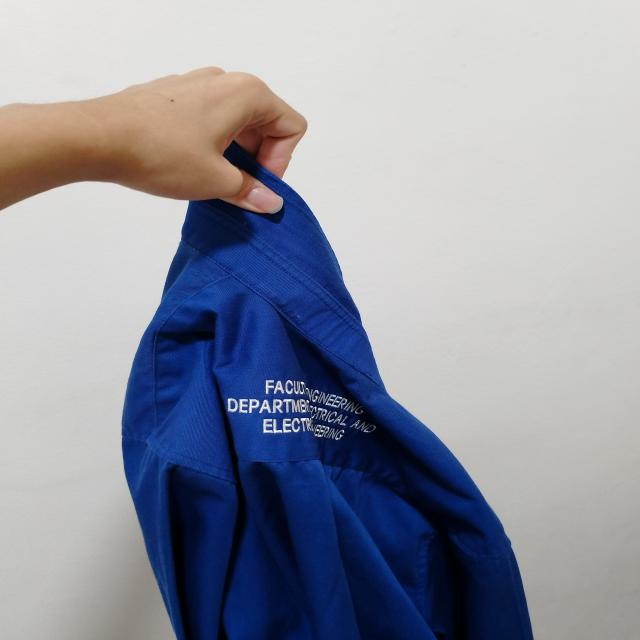person_without_labcoat: (0, 68, 532, 640)
